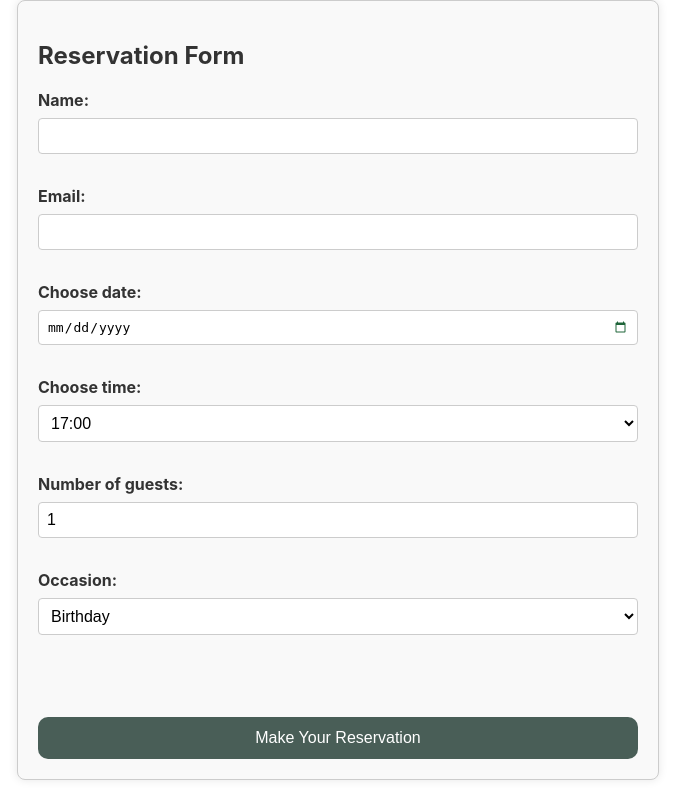
Scenario: BookingForm Component › shows error for invalid number of guests
Replace the text in the number field labelled "Number of guests:" with "11" at coordinates (338, 520), box [38,502,638,538]
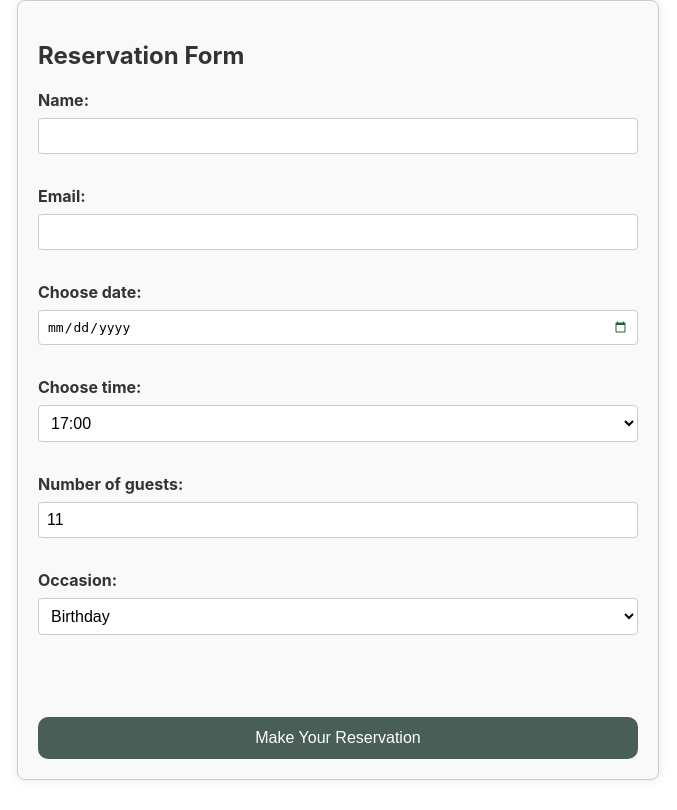
Leave the number field labelled "Number of guests:", box [38,502,638,538]
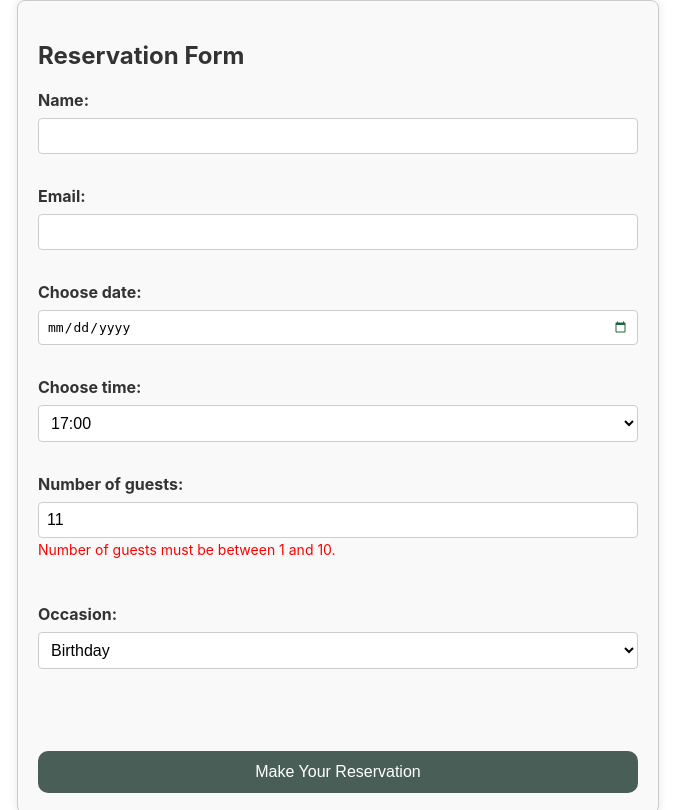
Expected: the text "Number of guests must be between 1 and 10." is shown, [38,541,336,558]
